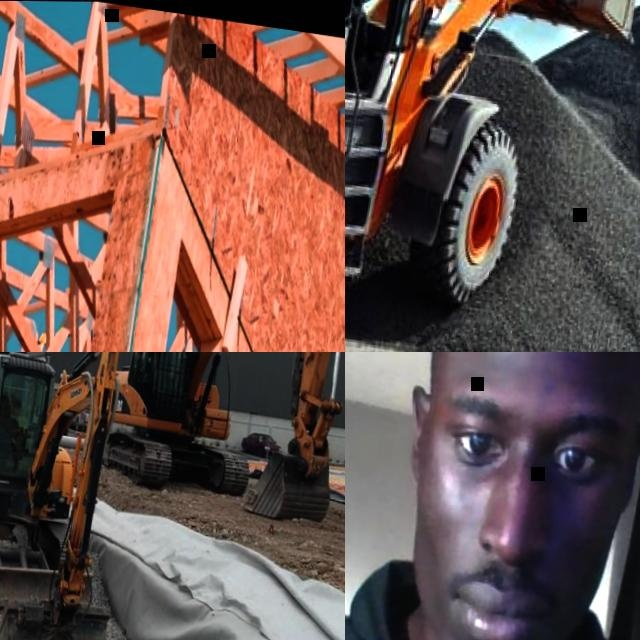NO-Mask: (392, 487, 620, 640)
Person: (345, 352, 640, 640), (0, 393, 26, 452)
machinery: (345, 0, 640, 352), (0, 352, 156, 640), (93, 352, 345, 526)
vehicle: (242, 429, 286, 459)
